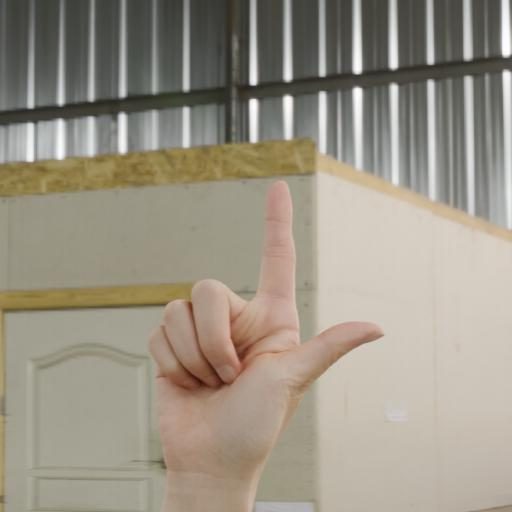L: (130, 174, 392, 496)
